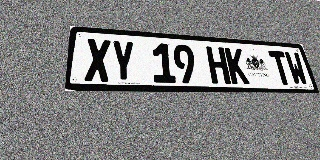1: (151, 43, 176, 83)
9: (173, 44, 198, 83)
H: (206, 46, 231, 84)
K: (224, 48, 250, 84)
T: (268, 50, 293, 85)
W: (284, 52, 309, 85)
X: (84, 38, 110, 82)
Y: (111, 40, 135, 82)
